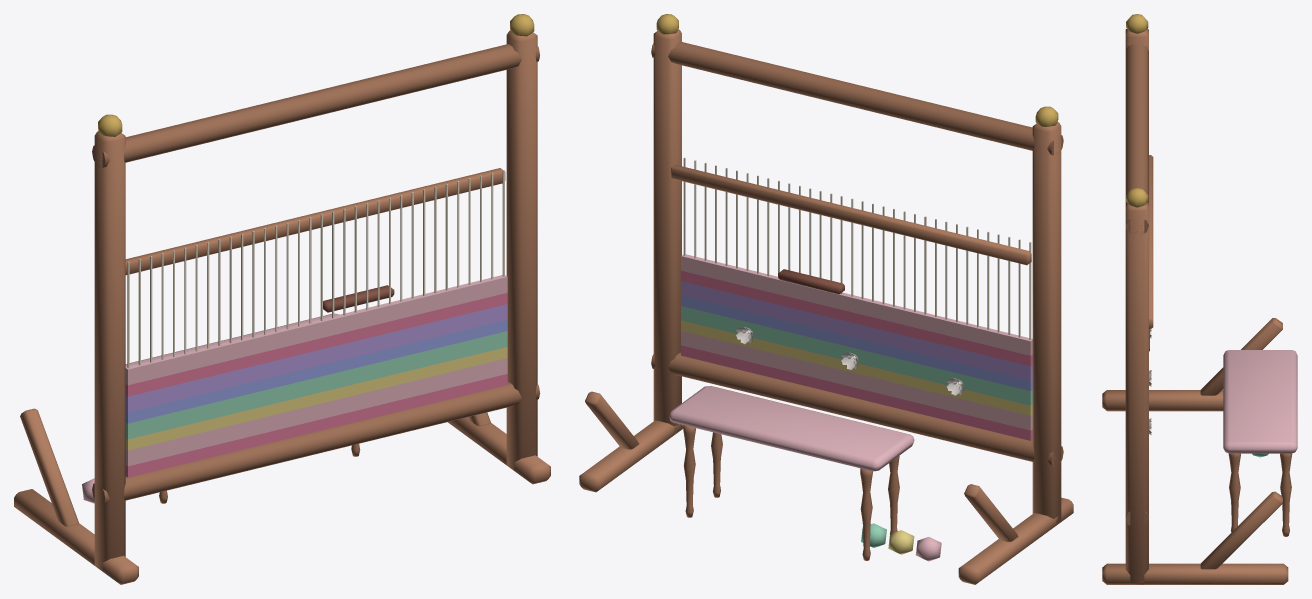
File: loom_upright.glb
The picture shows the model from 3 angles, left to right: view 1: azimuth 30°, elevation 25°; view 2: azimuth 150°, elevation 25°; view 3: azimuth 270°, elevation 25°; orthographic projection. The views are drawn at different scales.
Visible parts, largest first — view 1: loom_upright; view 2: loom_upright; view 3: loom_upright.
Boxes of the visible parts, x1=… form: loom_upright: x1=14, y1=14, x2=550, y2=584; loom_upright: x1=579, y1=14, x2=1073, y2=584; loom_upright: x1=1102, y1=14, x2=1297, y2=584.
Size of what is drawn, in the model's own units: 2 by 2 by 0.9.
